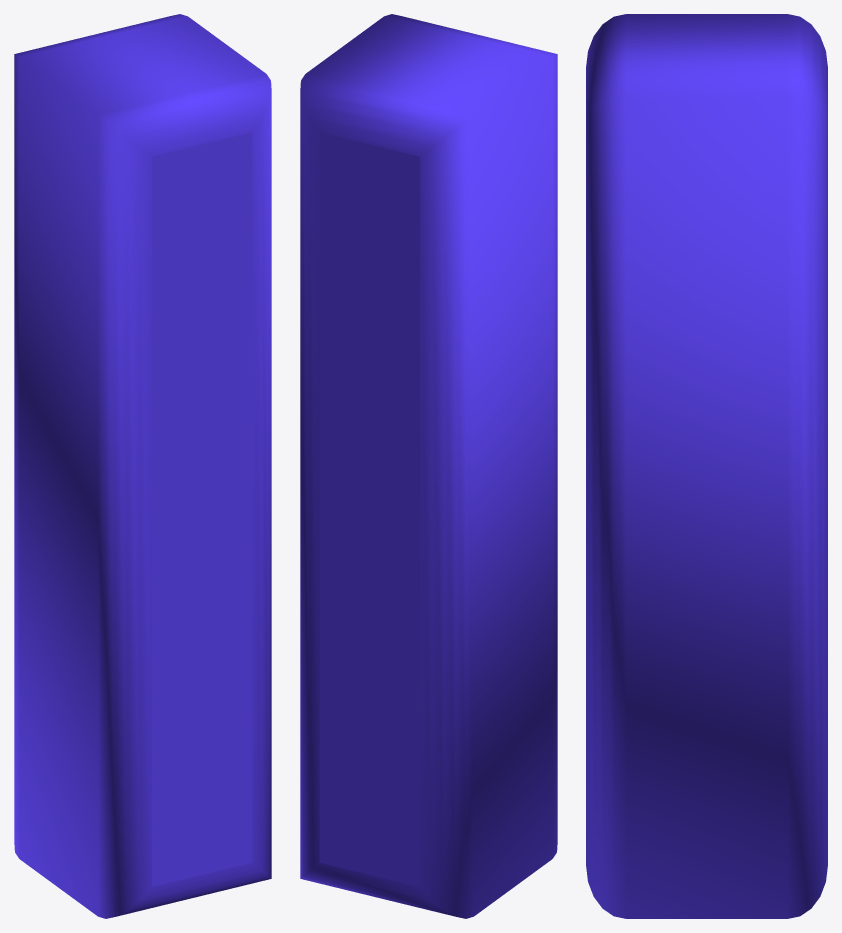
The picture shows the model from 3 angles, left to right: view 1: azimuth 30°, elevation 25°; view 2: azimuth 150°, elevation 25°; view 3: azimuth 270°, elevation 25°; orthographic projection. The views are drawn at different scales.
Parts seen in each view (by area): view 1: Text; view 2: Text; view 3: Text.
Part boxes in pixels (<box>): Text: <box>14,14,271,918</box>; Text: <box>300,14,557,918</box>; Text: <box>586,14,827,918</box>.
Size of the model in its own units: 0.494 by 2.25 by 0.6.
